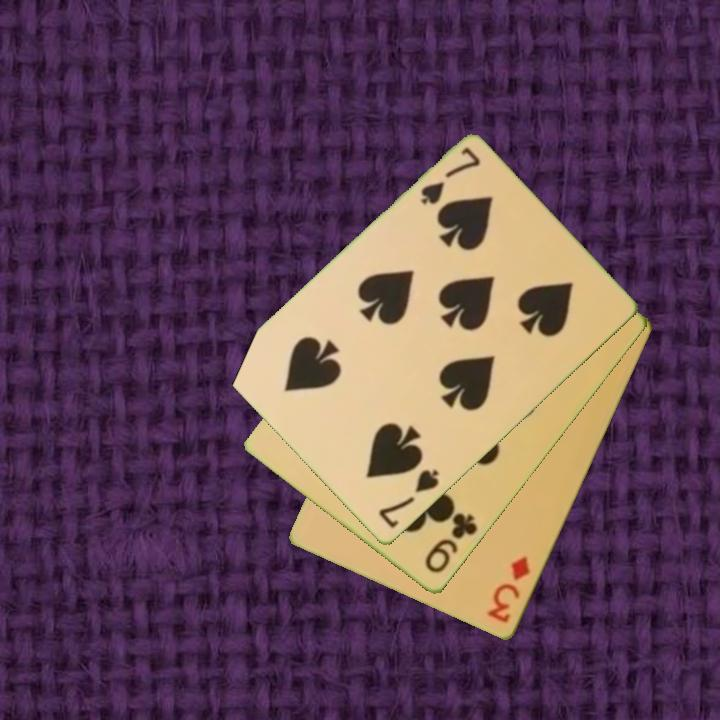3d: (483, 553, 533, 627)
7s: (375, 466, 442, 532), (417, 144, 484, 208)
9c: (421, 509, 481, 577)
